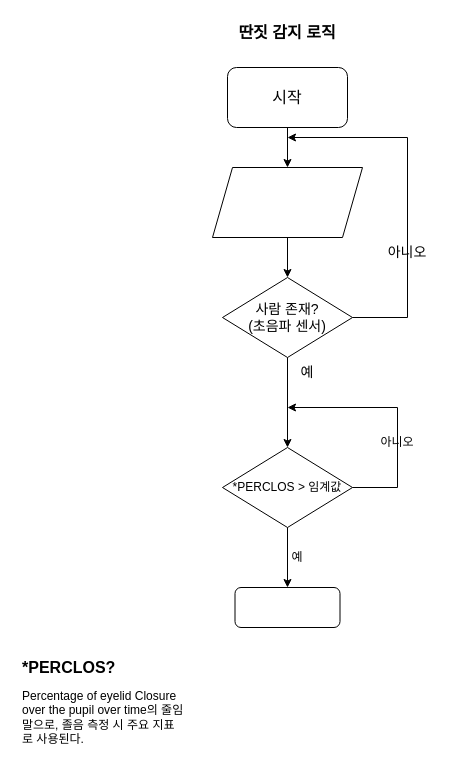
The diagram is 454 pixels wide and 774 high, and some of its shapes have lost their labels. The shapes that lost their labels are listed below. From the top down, each one's centre as x and y in pixels, then its label:
At (287,202): "초음파 센서 & 카메라 동공 측정".
At (287,607): "졸음 감지".
